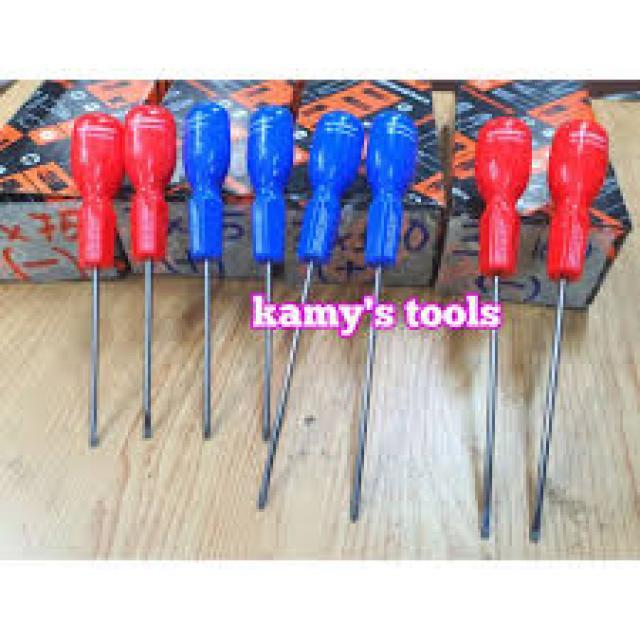screwdriver: (253, 110, 367, 514), (530, 116, 610, 546), (347, 109, 421, 525), (470, 115, 534, 539), (238, 102, 300, 444), (120, 105, 180, 444), (180, 96, 238, 444), (68, 111, 122, 452)
